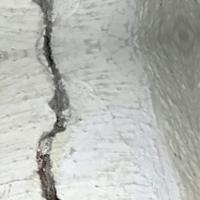crack: (17, 3, 79, 199)
